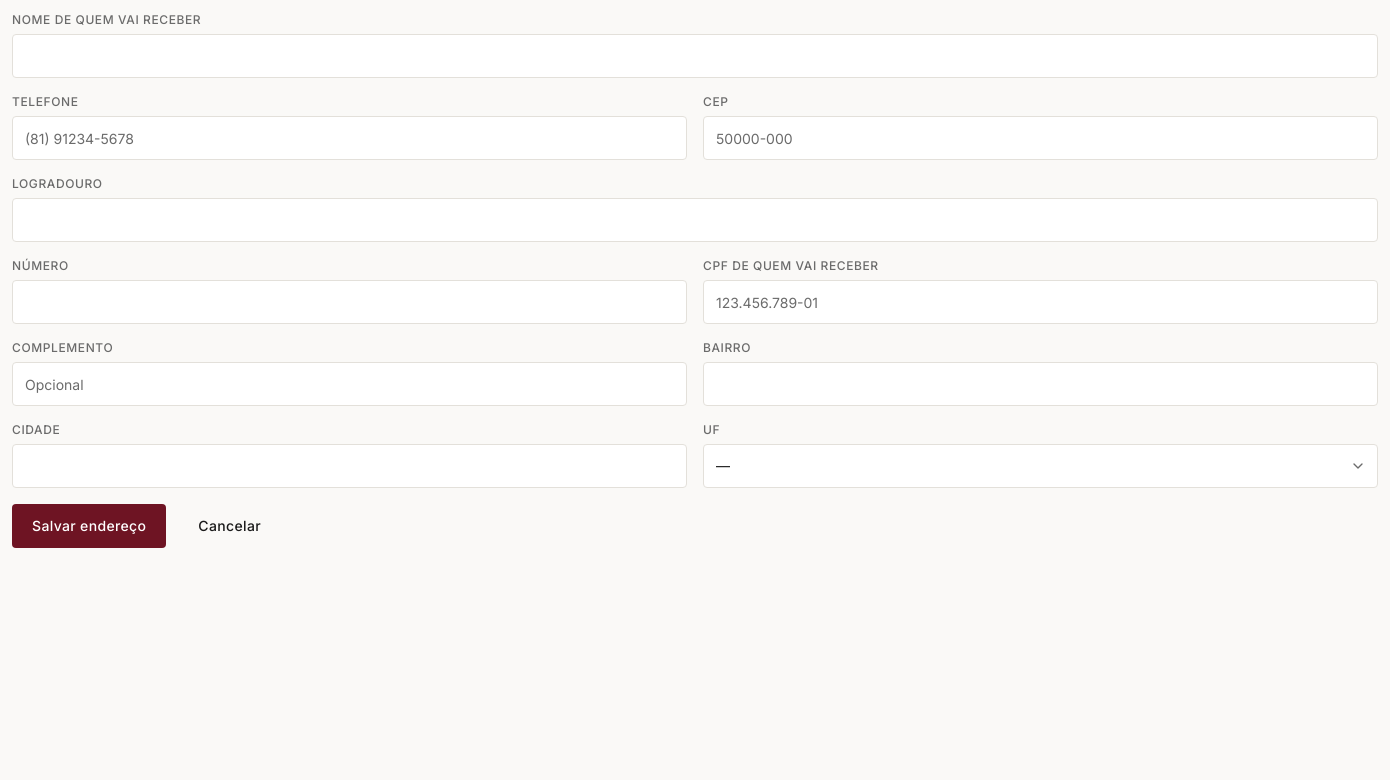
Test: AddressForm › CEP inexistente: mostra aviso e nao bloqueia o preenchimento manual
Type "99999999" into the field labelled "CEP".
click(1040, 138); type("99999999")  # box [703,116,1378,160]
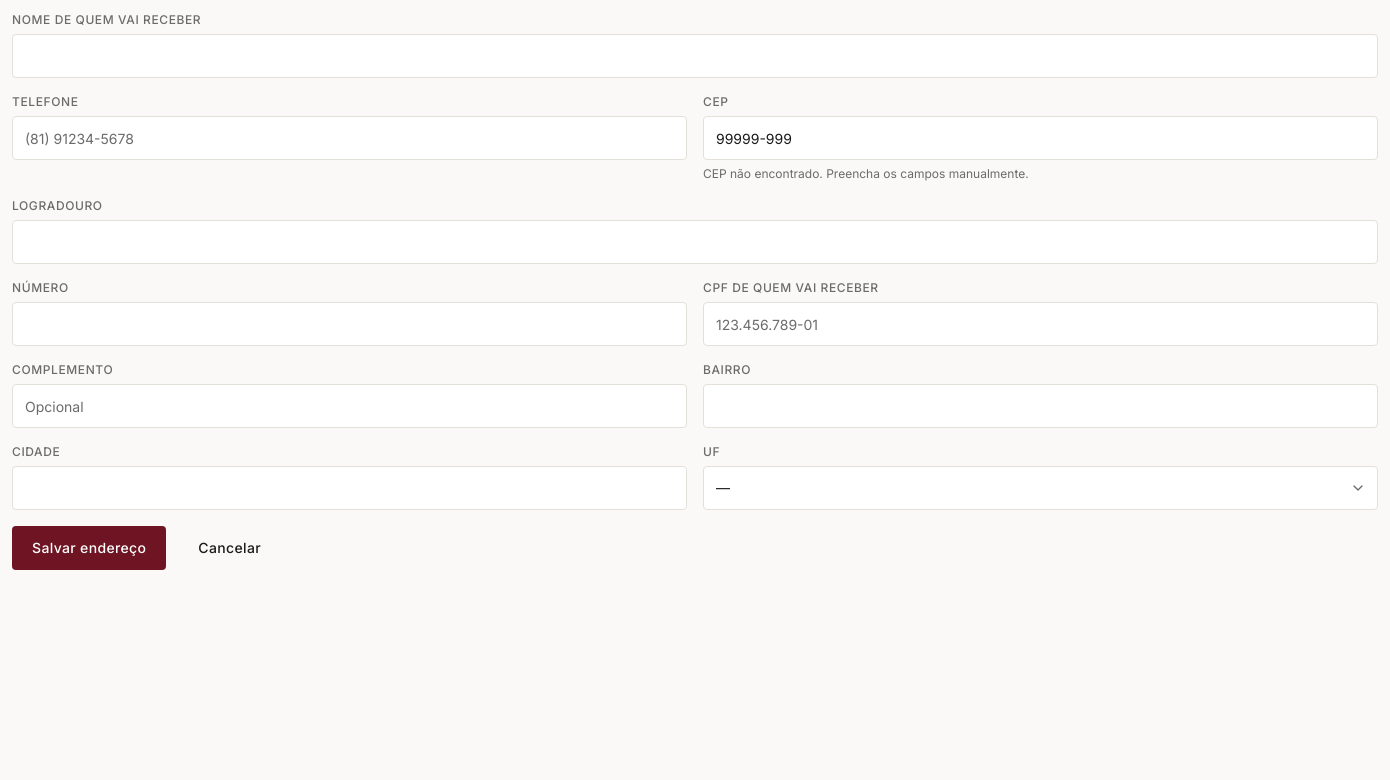
Expected: the text "CEP não encontrado. Preencha os campos manualmente." is shown, [703,166,1029,181]
